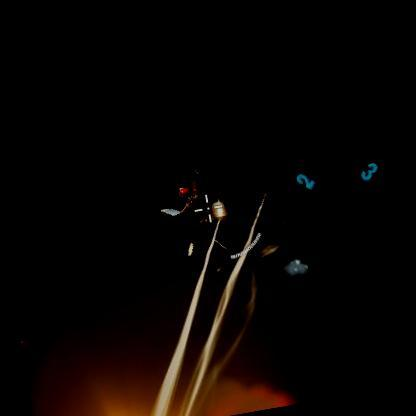person: (164, 177, 240, 279)
